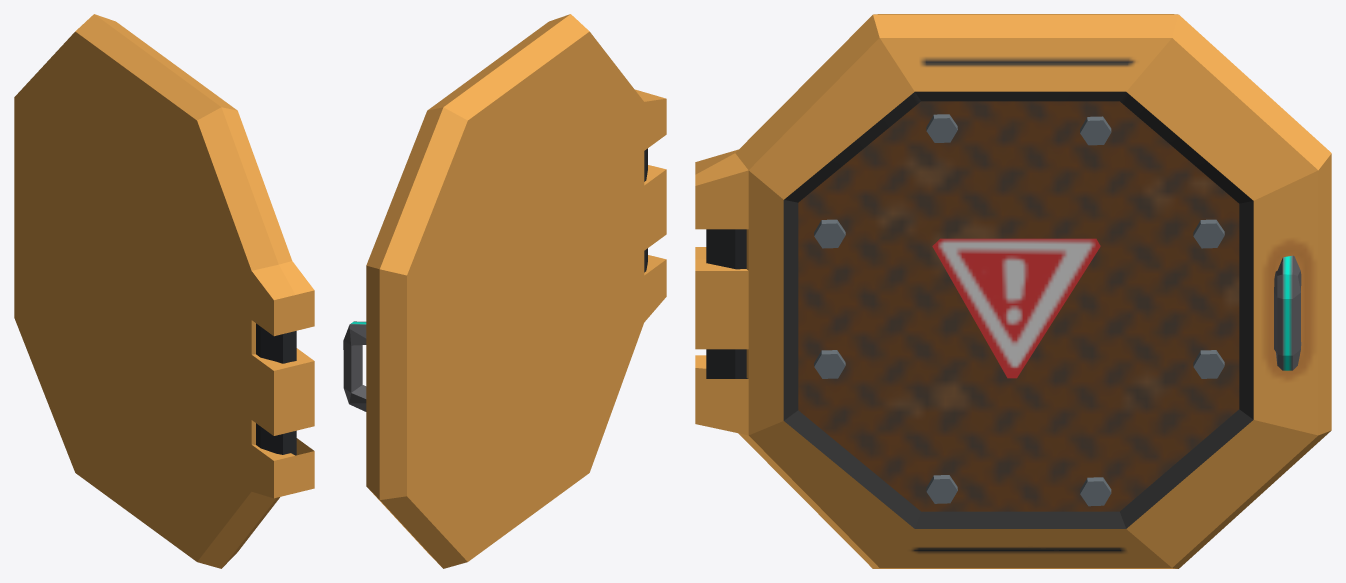
The model's file is SM_Bld_Pipe_Large_Hatch_02.fbx.
3 renders of one model, left to right at view 1: azimuth 30°, elevation 25°; view 2: azimuth 150°, elevation 25°; view 3: azimuth 270°, elevation 25°, orthographic. The views are drawn at different scales.
Visible parts, largest first — view 1: SM_Bld_Pipe_Large_Hatch_02; view 2: SM_Bld_Pipe_Large_Hatch_02; view 3: SM_Bld_Pipe_Large_Hatch_02.
Part boxes in pixels (<box>): SM_Bld_Pipe_Large_Hatch_02: <box>14,14,314,568</box>; SM_Bld_Pipe_Large_Hatch_02: <box>343,14,666,568</box>; SM_Bld_Pipe_Large_Hatch_02: <box>695,14,1331,568</box>.
Size of the model in its own units: 21.74 by 129 by 135.
